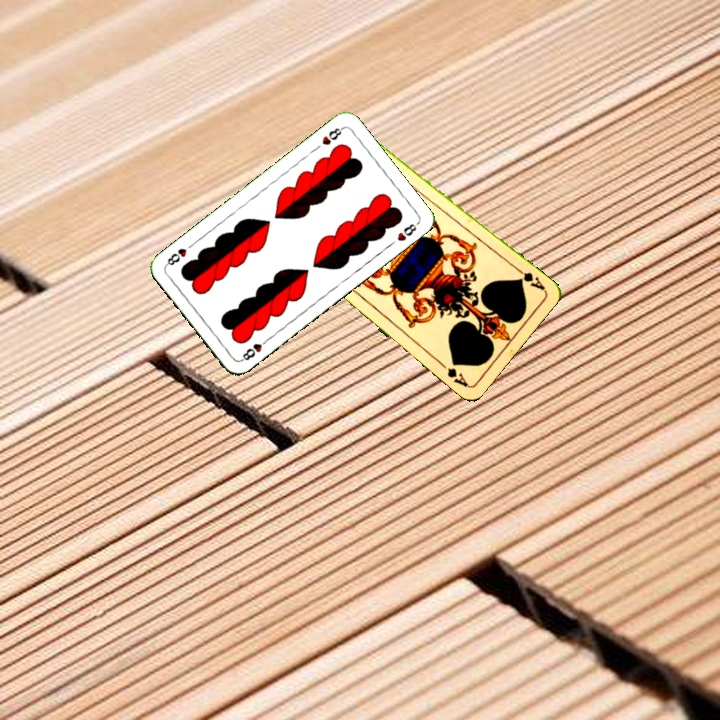GA: (512, 264, 548, 293)
H8: (237, 334, 271, 364), (318, 123, 346, 148)
